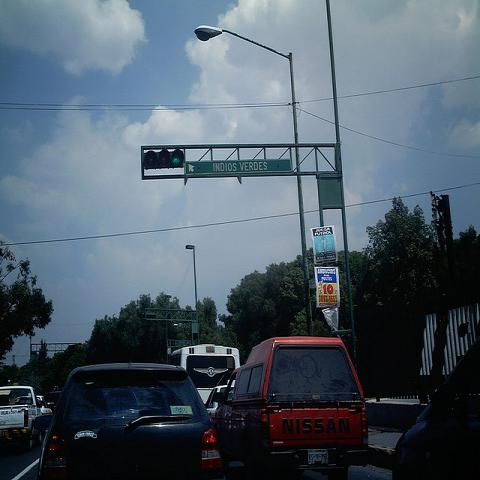bus: (170, 344, 240, 404)
car: (36, 361, 235, 479), (391, 333, 479, 473), (205, 385, 228, 421), (44, 390, 62, 416), (35, 396, 48, 416)
truck: (210, 334, 370, 480), (1, 386, 44, 450)
